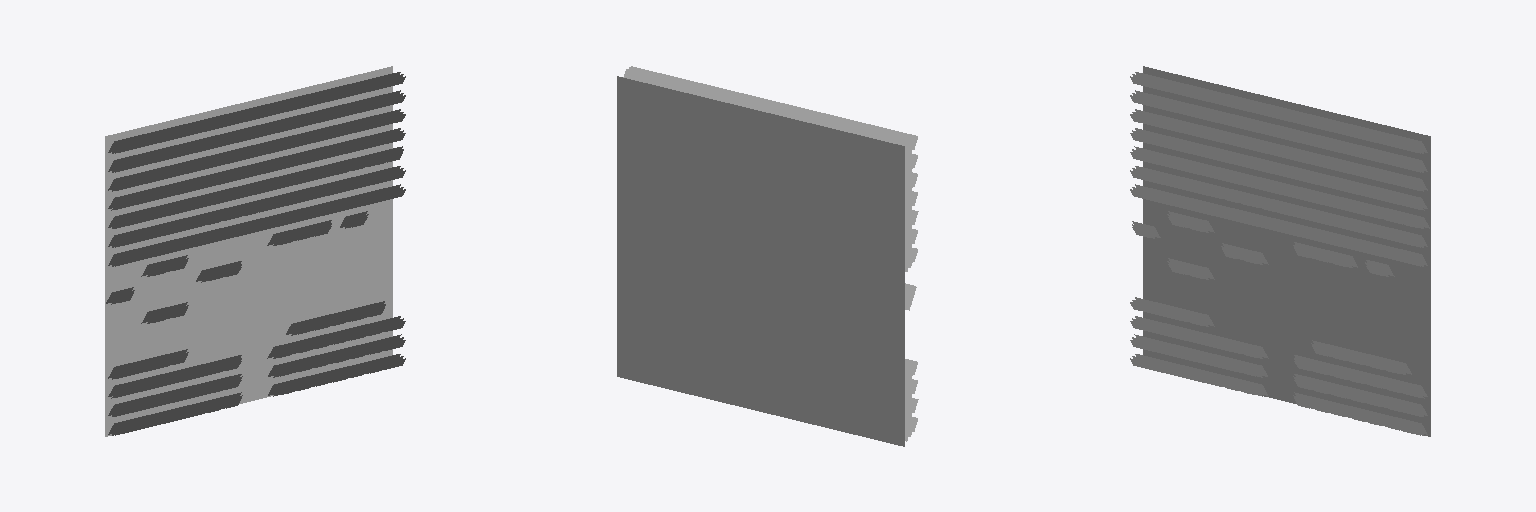
The model's file is Plat_full_02_20.obj.
3 views of the same model, side by side, from view 1: azimuth 30°, elevation 25°; view 2: azimuth 150°, elevation 25°; view 3: azimuth 330°, elevation 25° (orthographic).
Visible parts, largest first — view 1: map; view 2: map; view 3: map.
Part boxes in pixels (bbox=[...]): map: bbox=[105, 66, 405, 436]; map: bbox=[617, 66, 918, 446]; map: bbox=[1130, 66, 1430, 436].
Bounding box in the file's own units: 32.5 × 32.12 × 2.64.